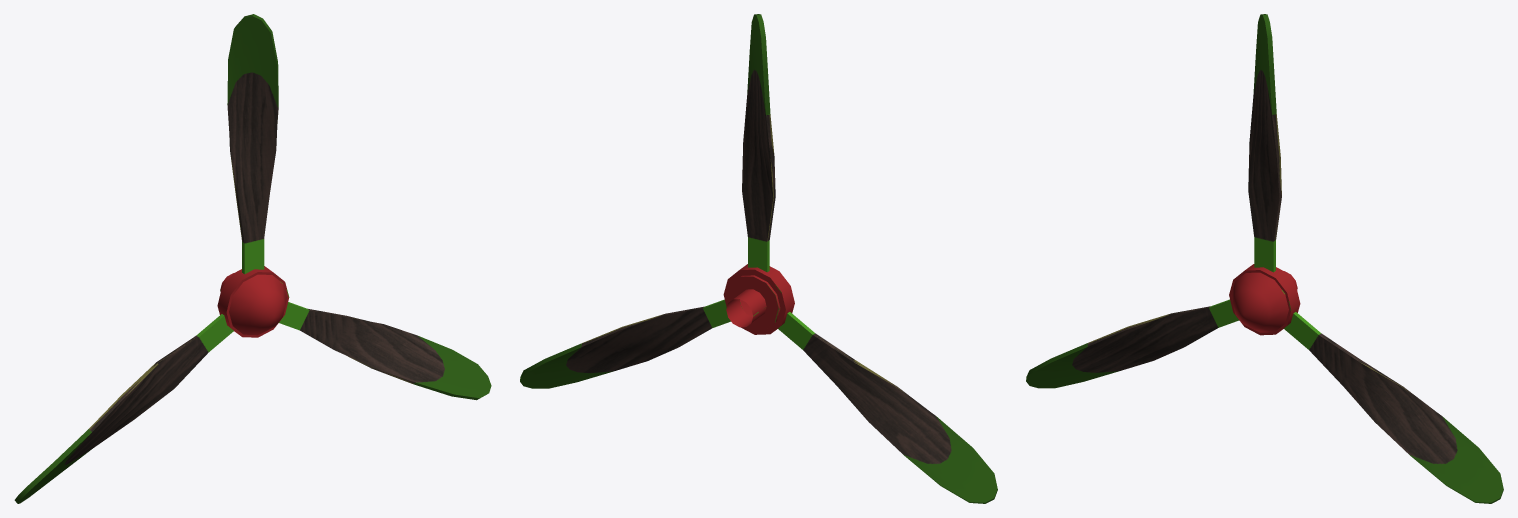
Rendered from p_03_Propeller.fbx.
The picture shows the model from 3 angles, left to right: view 1: azimuth 30°, elevation 25°; view 2: azimuth 150°, elevation 25°; view 3: azimuth 330°, elevation 25°; orthographic projection.
Parts seen in each view (by area): view 1: P_03_Propeller; view 2: P_03_Propeller; view 3: P_03_Propeller.
Boxes of the visible parts, x1,y1,x2,y2 form: P_03_Propeller: (14,14,491,503); P_03_Propeller: (520,14,997,503); P_03_Propeller: (1026,14,1503,503).
Size of the model in its own units: 102 by 88.7 by 15.08.
